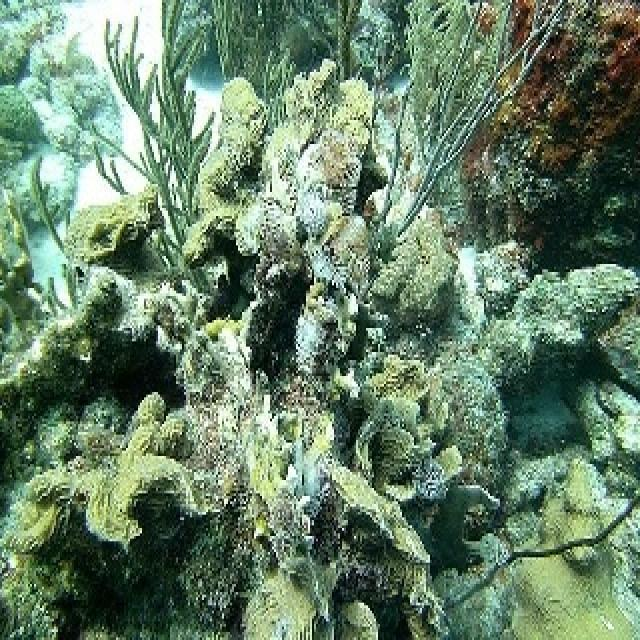reefs: (166, 269, 356, 596), (72, 0, 217, 295), (400, 1, 570, 238), (239, 122, 365, 380), (7, 392, 203, 554), (331, 402, 467, 562), (182, 82, 269, 268), (287, 57, 375, 155), (27, 148, 77, 314), (74, 187, 166, 265), (211, 1, 247, 82)
sea-floor: (366, 212, 638, 490), (449, 0, 638, 276), (413, 495, 637, 637), (457, 446, 637, 575), (562, 374, 638, 464), (600, 300, 638, 395)
